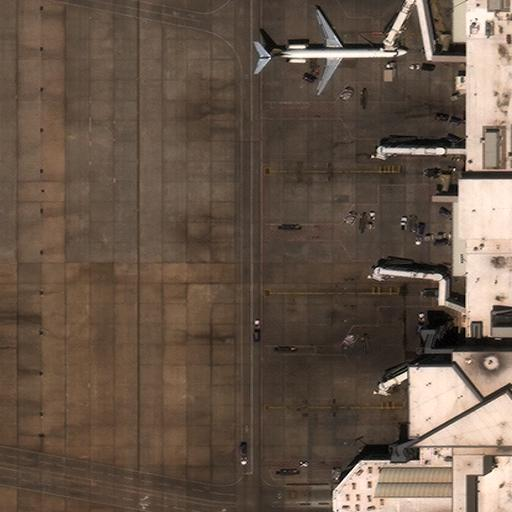Medium Civil Transport: (255, 9, 411, 96)
